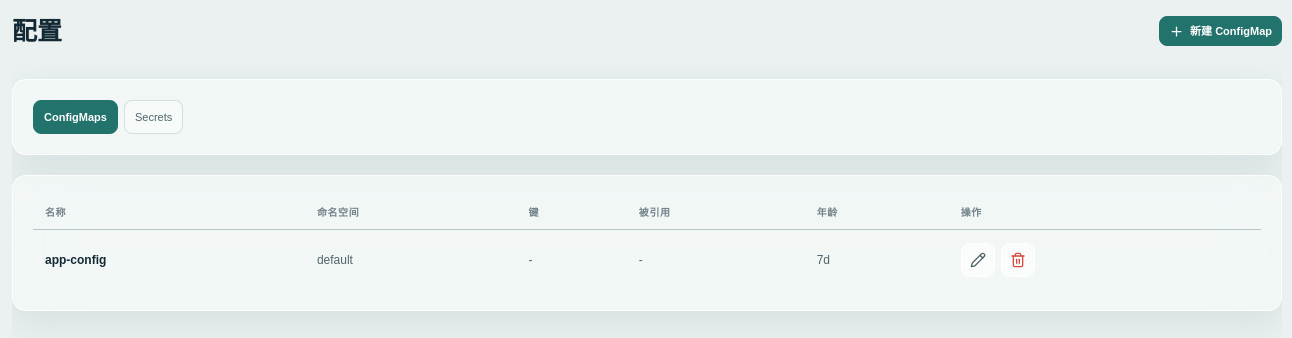
Test: Configs view › loads and renders Secrets when switching tabs
The image size is (1292, 338).
Click the button with class "tab-btn" showing "Secrets" at (154, 117), box x1=124 y1=100 x2=183 y2=134
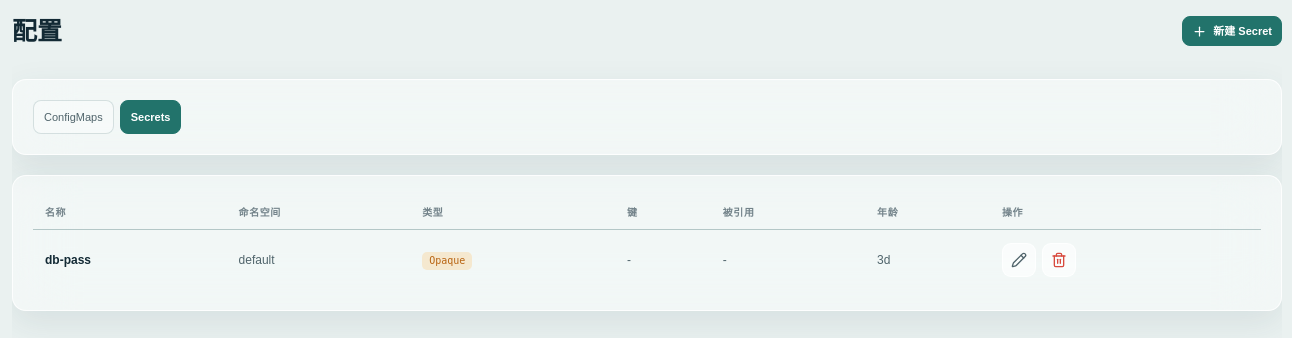
Expected: the text "db-pass" is shown, x1=33 y1=230 x2=227 y2=290
Expected: the text "Opaque" is shown, x1=422 y1=252 x2=472 y2=270
